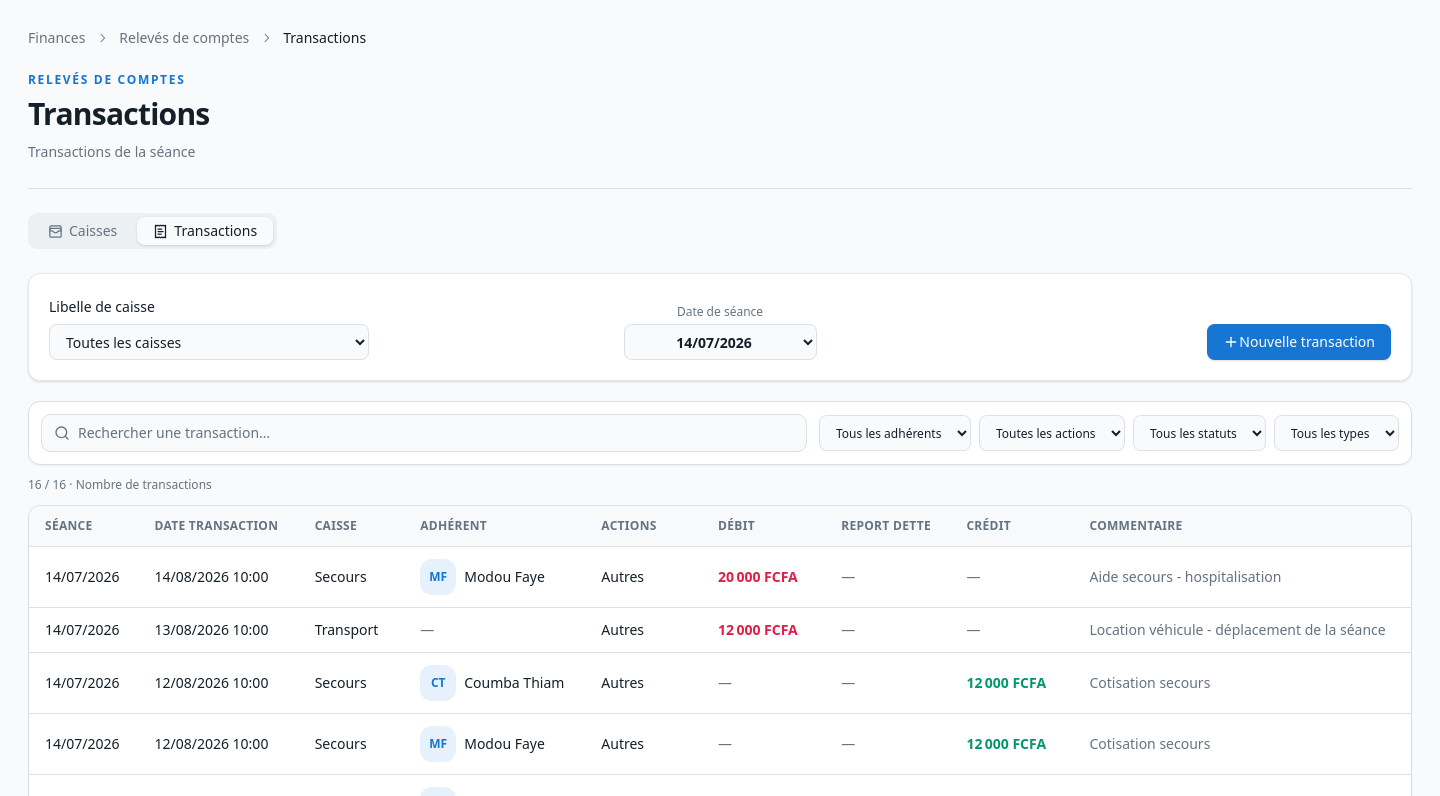
Test: Finance → Transactions — séance du contexte Finance (§6-§11, tests §47) › la séance est un contexte PARTAGÉ : choisie dans Transactions, elle reste sélectionnée dans la fiche caisse
Select "Toutes les séances" in the dropdown labelled "Date de séance" at (720, 342), box x1=624 y1=324 x2=816 y2=360
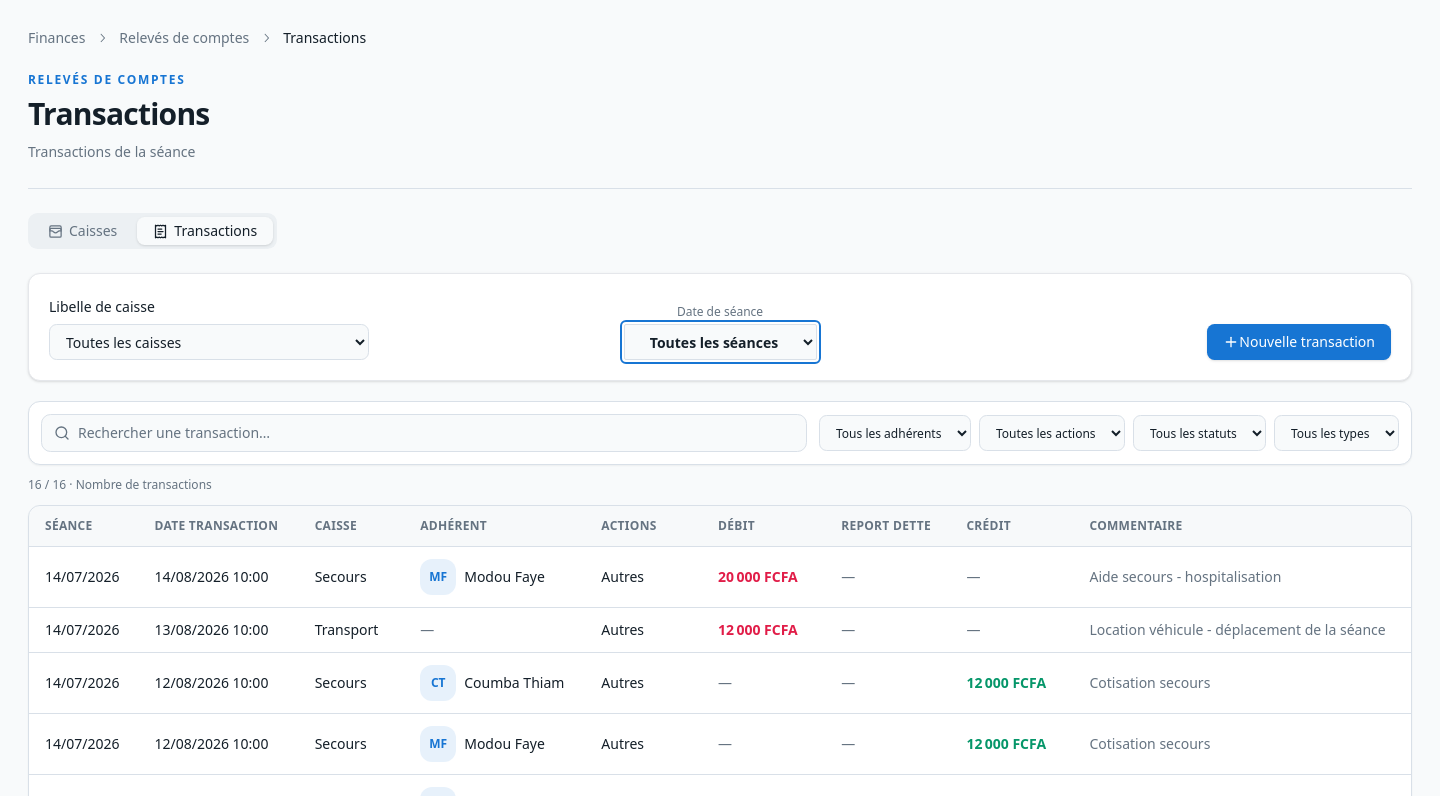
Click the tab "Caisses" at (83, 231), box x1=32 y1=217 x2=133 y2=245
(page scrolled)
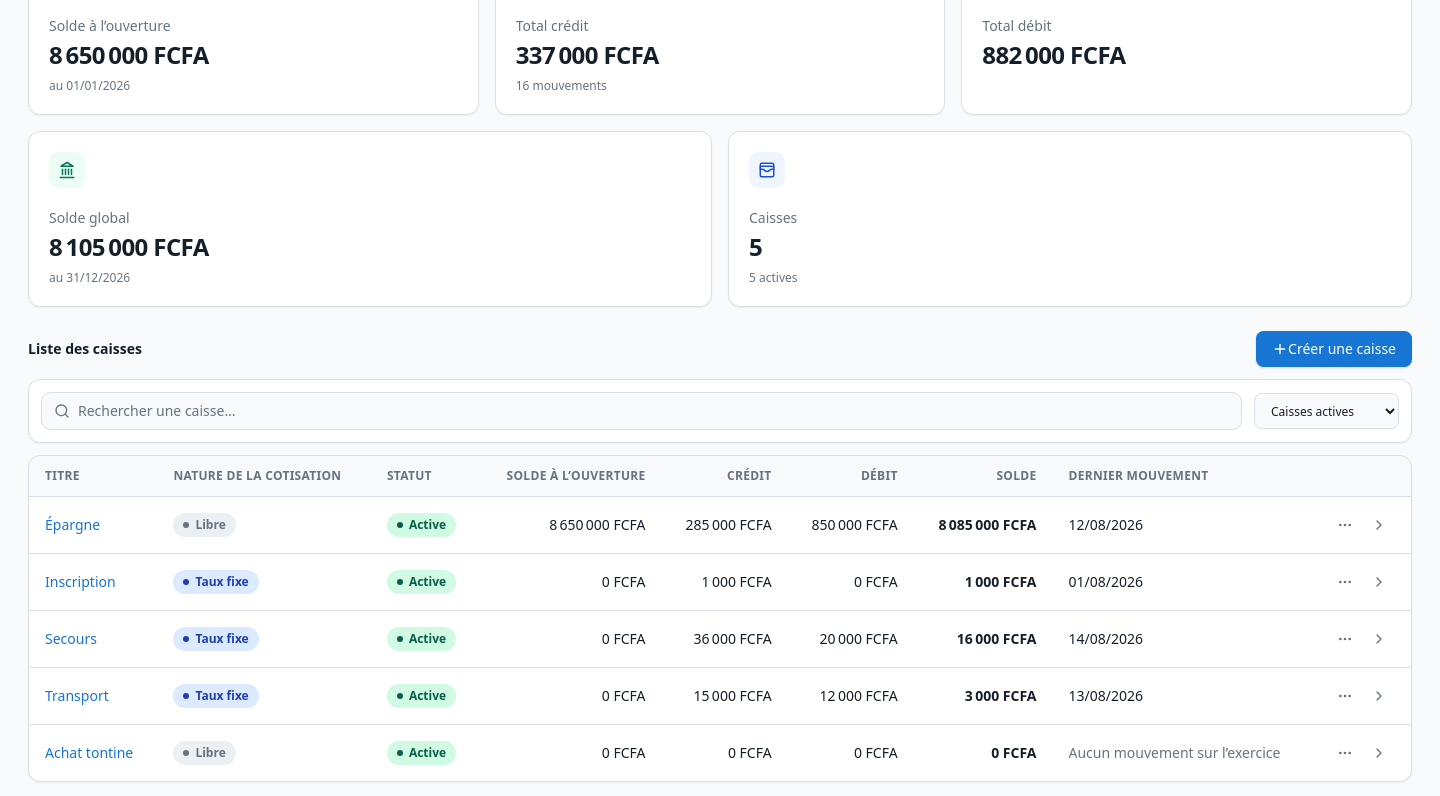
Click the button named "Voir le détail" in the row of "15 000 FCFA" at (1379, 696), box x1=1363 y1=680 x2=1395 y2=712
(page scrolled)
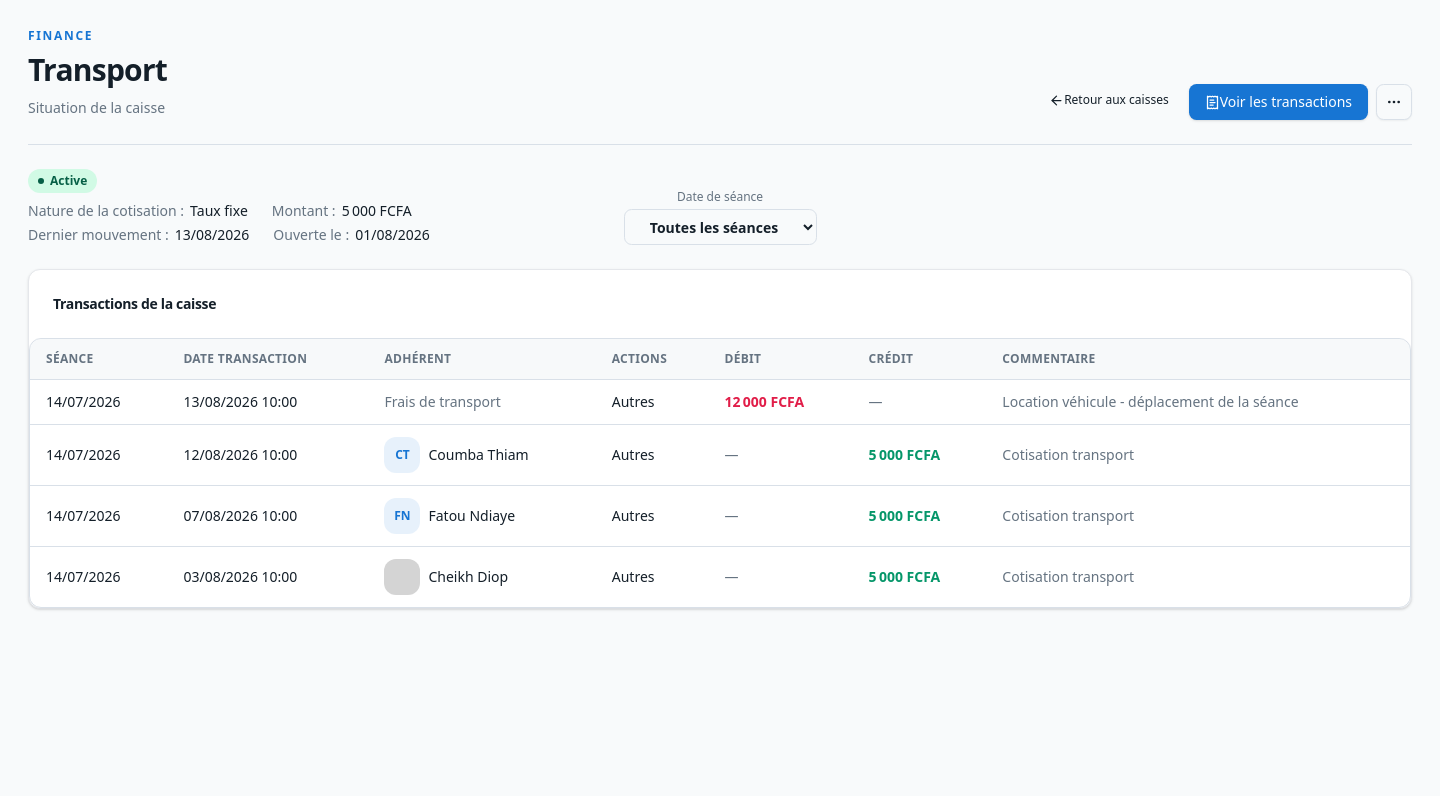
Check: the heading "Transport" is shown, box x1=28 y1=52 x2=167 y2=88
Check: the dropdown labelled "Date de séance" shows "Toutes les séances", box x1=624 y1=209 x2=816 y2=245
